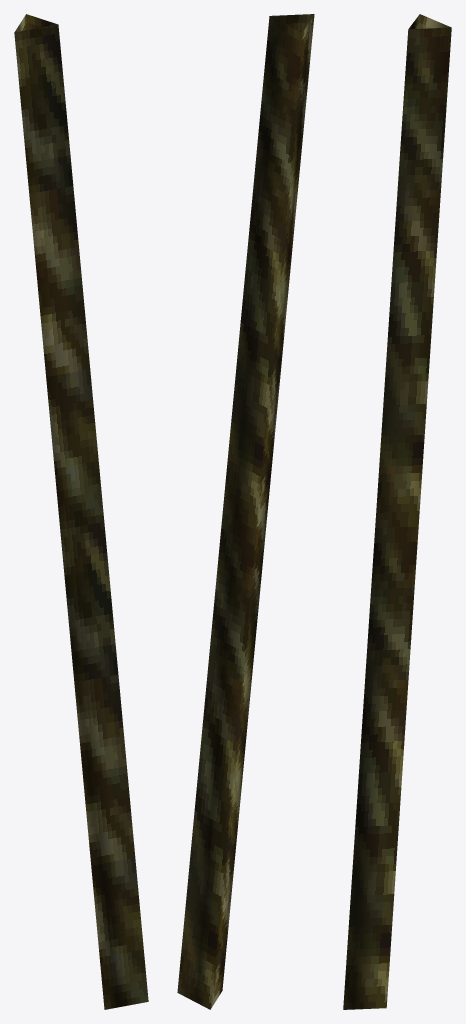
File: OVERHILL_A_01_ROPE_LINE_07.fbx
The picture shows the model from 3 angles, left to right: view 1: azimuth 30°, elevation 25°; view 2: azimuth 210°, elevation 25°; view 3: azimuth 270°, elevation 25°; orthographic projection. The views are drawn at different scales.
Parts seen in each view (by area): view 1: OVERHILL_A_01_ROPE_LINE_07; view 2: OVERHILL_A_01_ROPE_LINE_07; view 3: OVERHILL_A_01_ROPE_LINE_07.
Part boxes in pixels (x1=…): OVERHILL_A_01_ROPE_LINE_07: x1=14, y1=14, x2=148, y2=1009; OVERHILL_A_01_ROPE_LINE_07: x1=177, y1=14, x2=314, y2=1009; OVERHILL_A_01_ROPE_LINE_07: x1=343, y1=14, x2=451, y2=1009.
Size of the model in its own units: 1136 by 11041 by 1137.
Materials: 1 (1 with a texture image).
